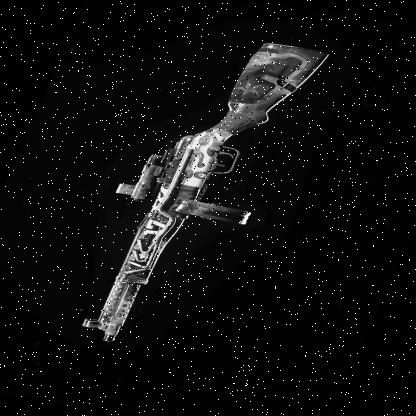rifle: (42, 27, 350, 361)
